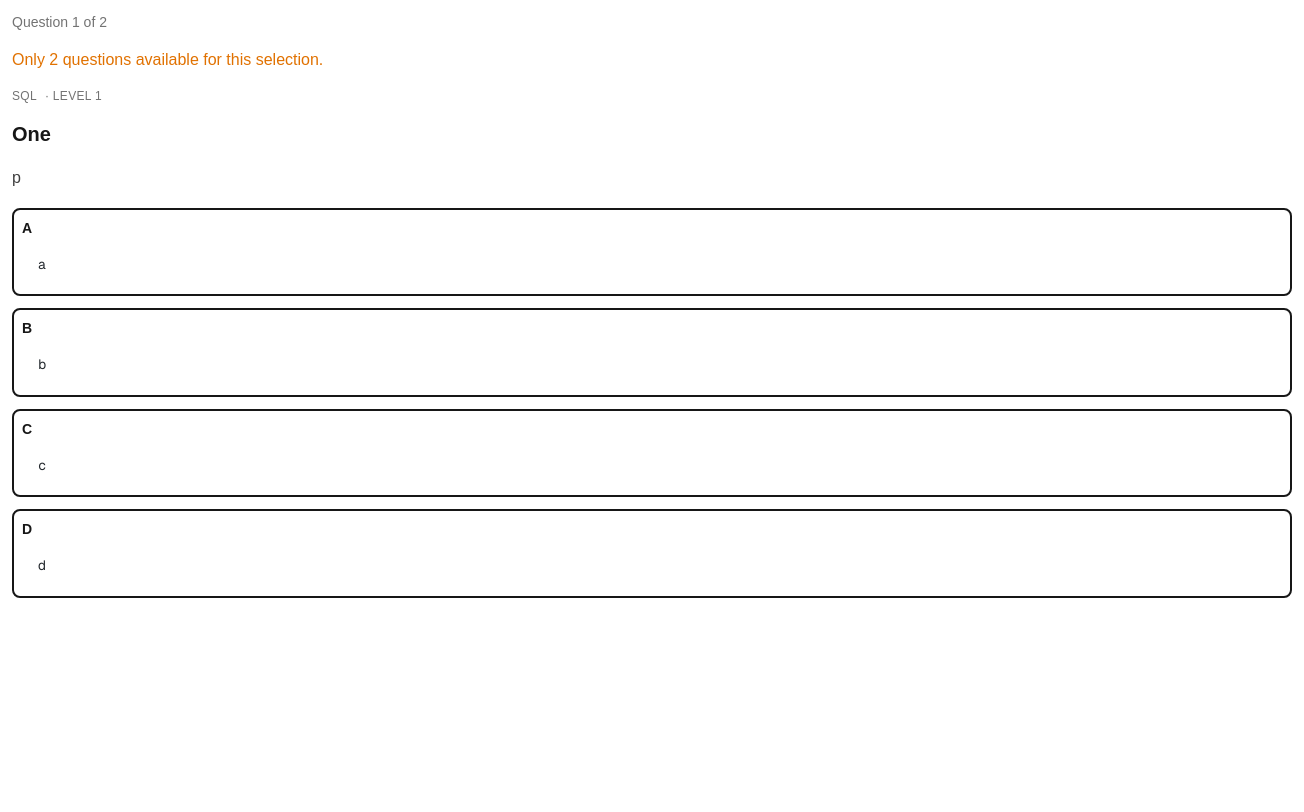
Test case: hides feedback during the exam, then shows review with score and shortfall
Expected: the heading "One" is shown, [12, 123, 51, 145]
Expected: the text "Only 2 questions available for this selection." is shown, [12, 51, 323, 68]
Click the button named "Option" at (652, 252), box [12, 208, 1292, 296]
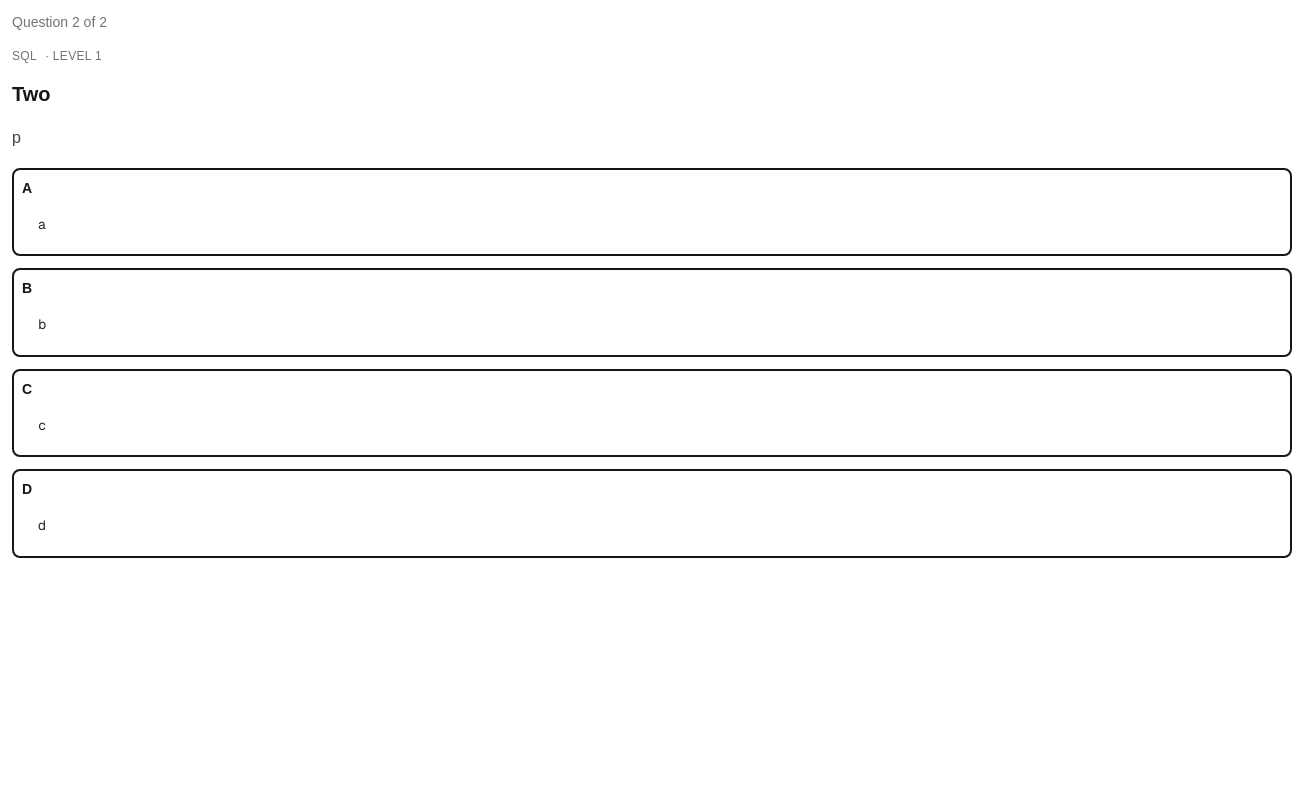
Expected: the text "why q1" is not shown
Expected: the heading "Two" is shown, [12, 83, 50, 105]
Click the button named "Option" at (652, 313), box [12, 268, 1292, 357]
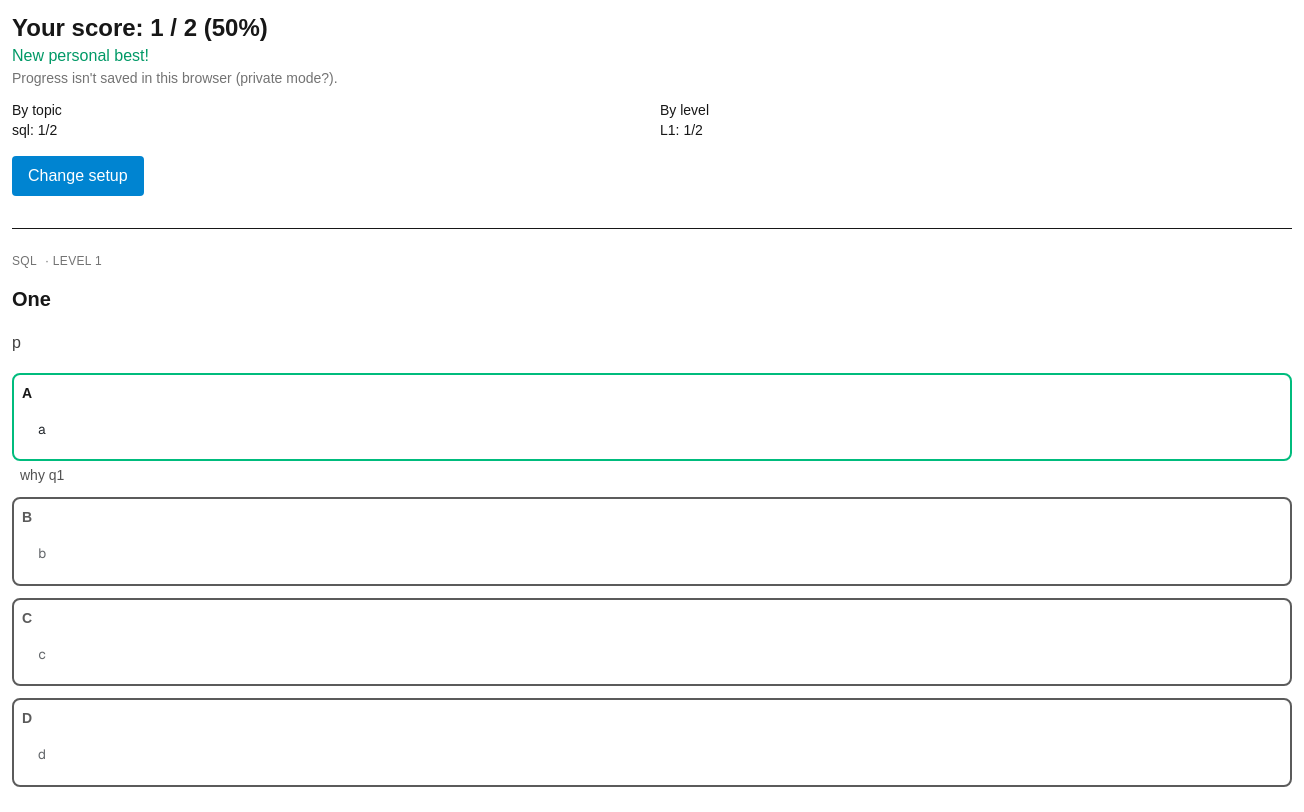
Expected: the heading "Your score: 1 / 2 (50%)" is shown, [12, 14, 268, 41]
Expected: the text "why q1" is shown, [20, 467, 64, 483]
Expected: the heading "By topic" is shown, [12, 102, 62, 118]
